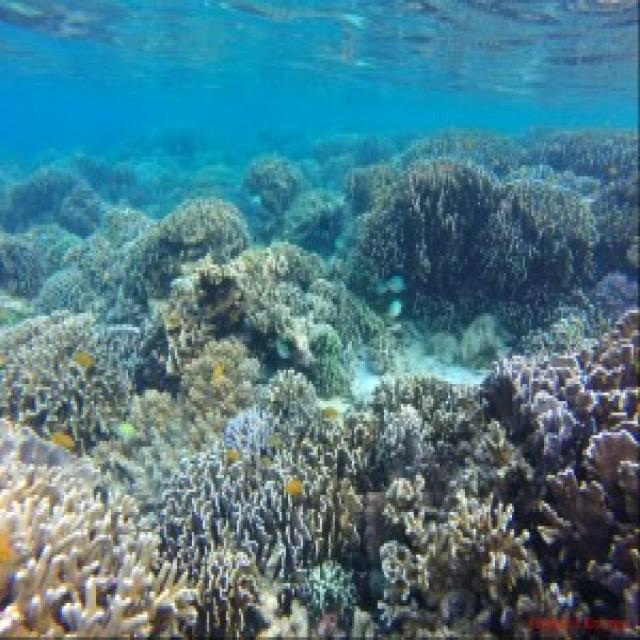Healthy: (485, 311, 639, 587), (1, 422, 195, 635), (144, 243, 376, 416), (163, 408, 327, 576), (381, 482, 543, 638), (357, 163, 498, 314), (1, 314, 140, 431), (340, 379, 479, 493), (477, 180, 596, 311), (266, 371, 344, 559), (127, 200, 251, 297), (97, 391, 199, 499), (161, 533, 263, 638), (44, 211, 144, 308), (340, 476, 423, 564), (182, 339, 261, 431), (1, 226, 80, 297), (404, 129, 522, 175), (530, 132, 635, 180), (5, 169, 88, 229), (592, 175, 637, 271), (285, 192, 347, 254), (244, 160, 300, 214), (347, 163, 400, 214), (304, 564, 353, 615), (61, 186, 103, 237), (97, 206, 150, 246)
